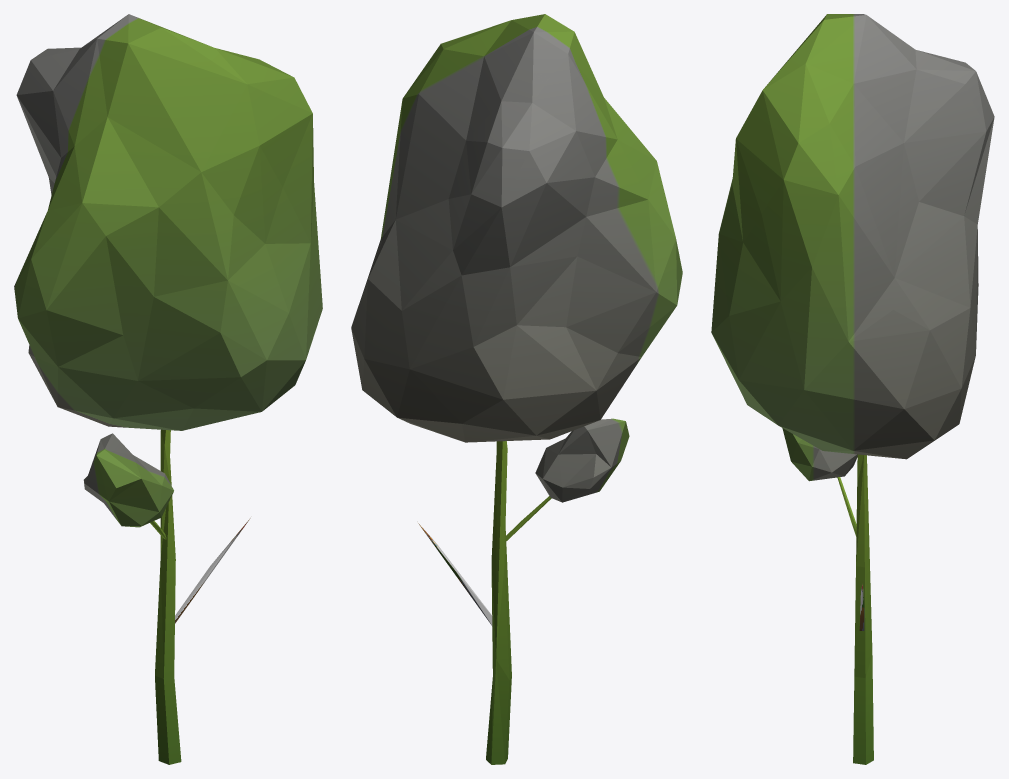
File: Tree_04.fbx
3 renders of one model, left to right at view 1: azimuth 30°, elevation 25°; view 2: azimuth 150°, elevation 25°; view 3: azimuth 270°, elevation 25°, orthographic. The views are drawn at different scales.
Parts seen in each view (by area): view 1: Tree_04; view 2: Tree_04; view 3: Tree_04.
Boxes of the visible parts, x1=… form: Tree_04: x1=14, y1=14, x2=322, y2=764; Tree_04: x1=351, y1=14, x2=682, y2=764; Tree_04: x1=711, y1=14, x2=994, y2=764.
Size of the model in its own units: 5.54 by 13.51 by 4.77.
